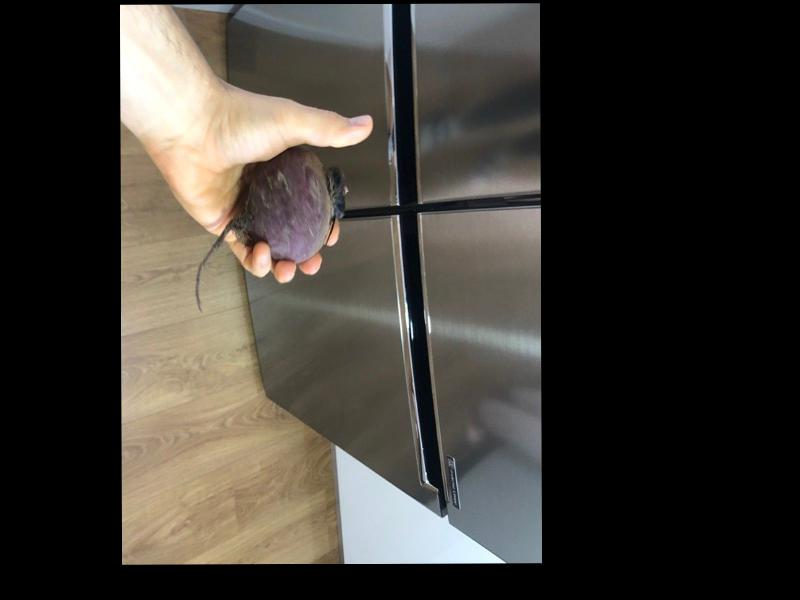Beet: (196, 146, 347, 312)
